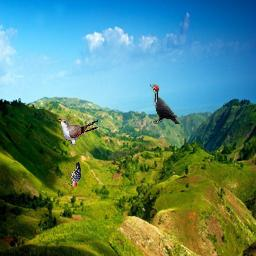Cuckoo: (58, 119, 98, 145)
Woodpecker: (150, 84, 180, 124), (67, 162, 81, 187)
